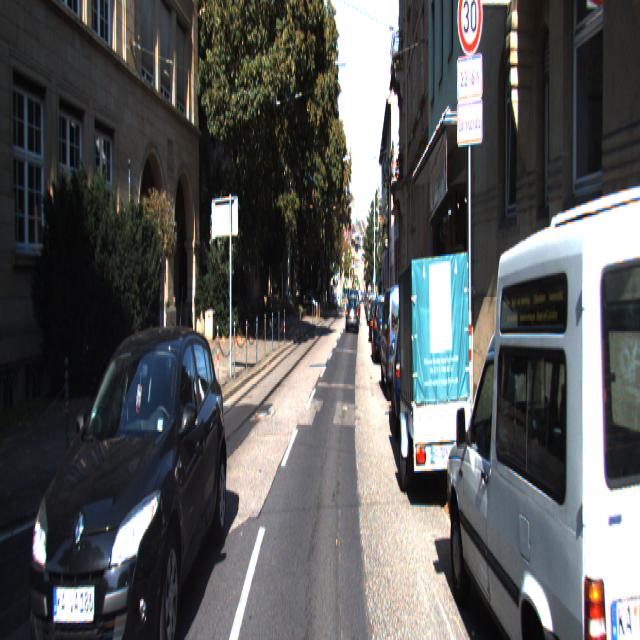Car: (446, 132, 640, 638), (28, 319, 232, 638), (394, 244, 474, 519), (389, 311, 442, 452), (379, 279, 419, 404), (372, 294, 396, 368), (346, 294, 358, 334)
